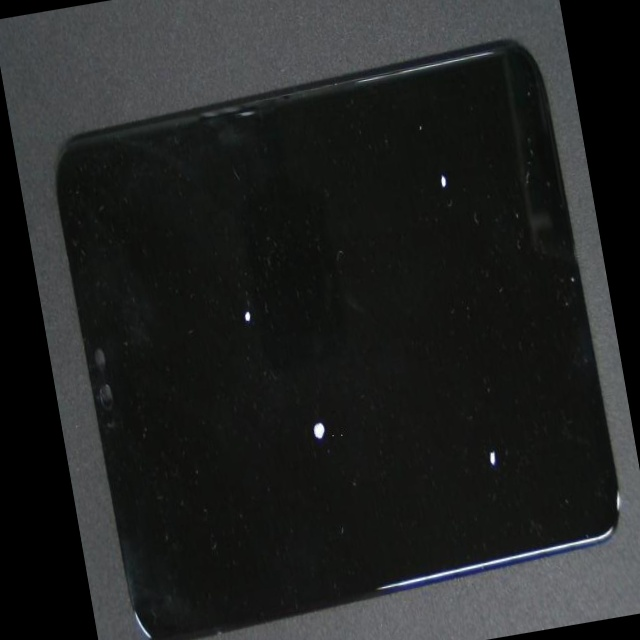stain: (229, 196, 640, 640), (133, 154, 465, 640), (206, 40, 612, 371), (108, 97, 365, 504)
